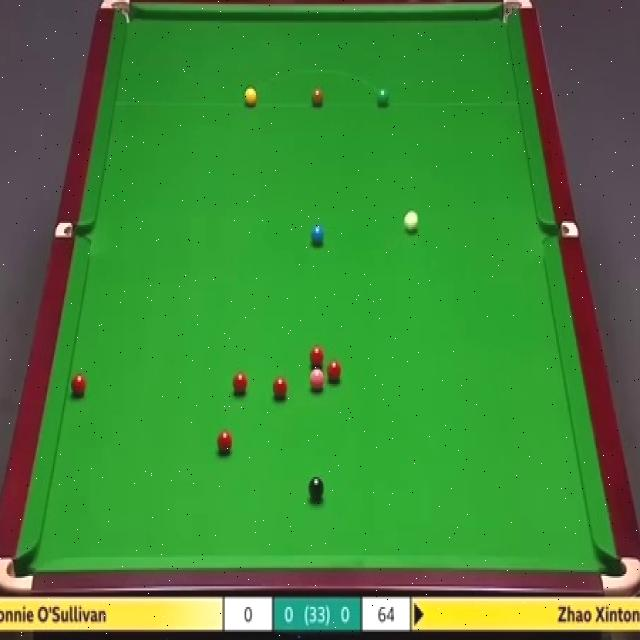black-ball: (308, 476, 326, 502)
blue-ball: (311, 224, 325, 247)
brown-ball: (311, 88, 324, 107)
green-ball: (377, 86, 389, 110)
pink-ball: (310, 368, 326, 391)
red-ball: (272, 376, 289, 404), (216, 429, 234, 455), (327, 359, 344, 386), (233, 370, 249, 398), (70, 372, 86, 399), (310, 343, 325, 370)
white-ball: (401, 207, 422, 235)
yellow-ball: (244, 85, 257, 106)
